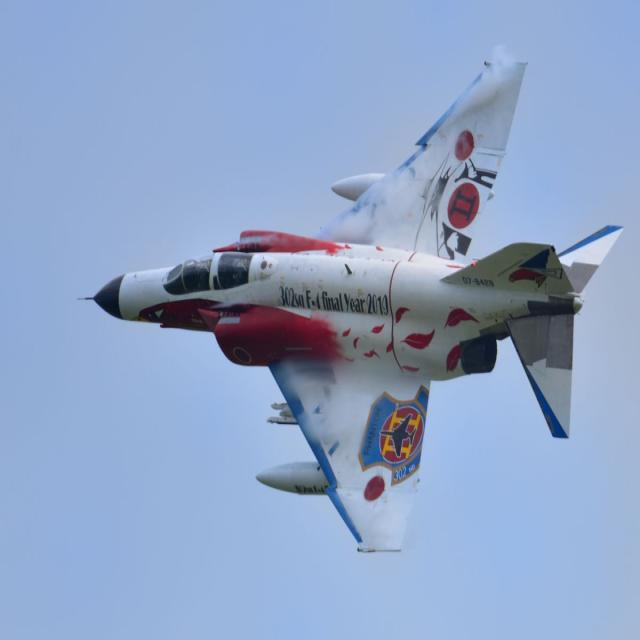MIL_Plane: (76, 61, 624, 554)
